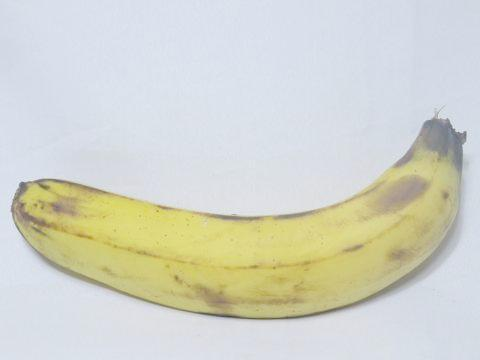ripe: (5, 102, 479, 322)
